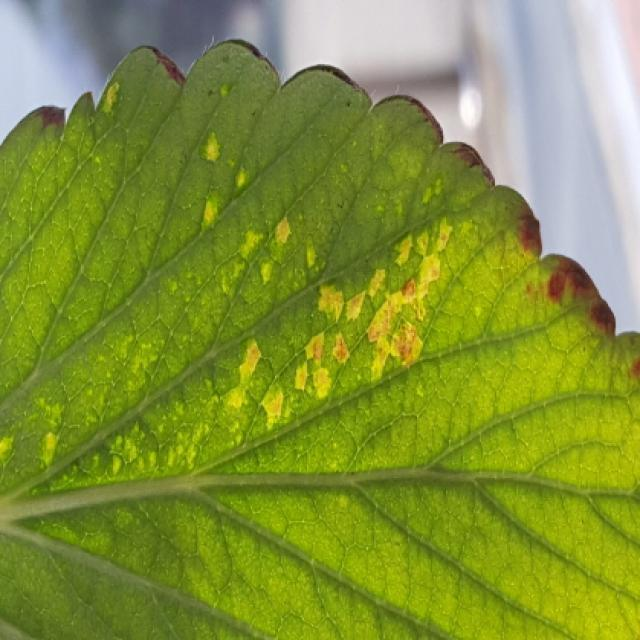Angular Leafspot: (0, 116, 514, 510)
